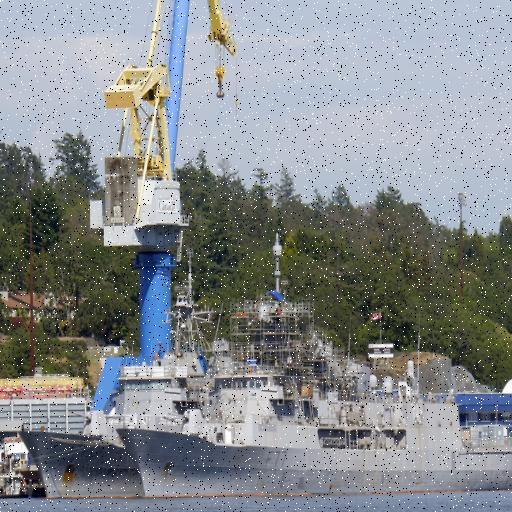Fragata: (121, 273, 512, 505)
